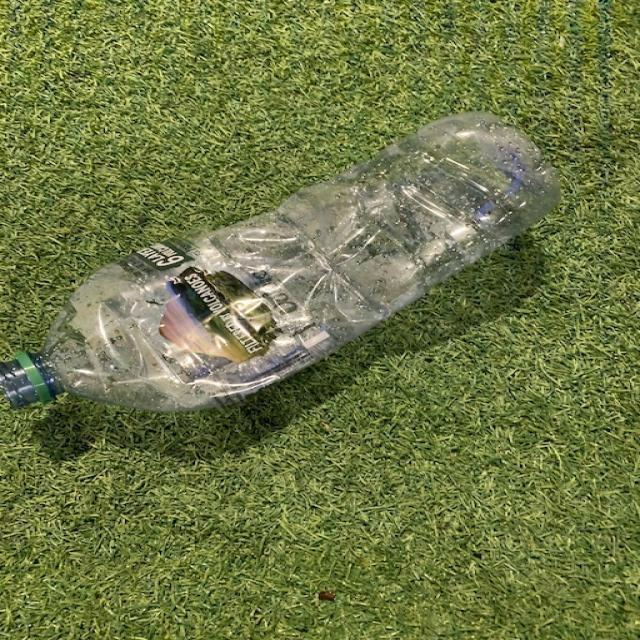bottle: (0, 112, 561, 412)
